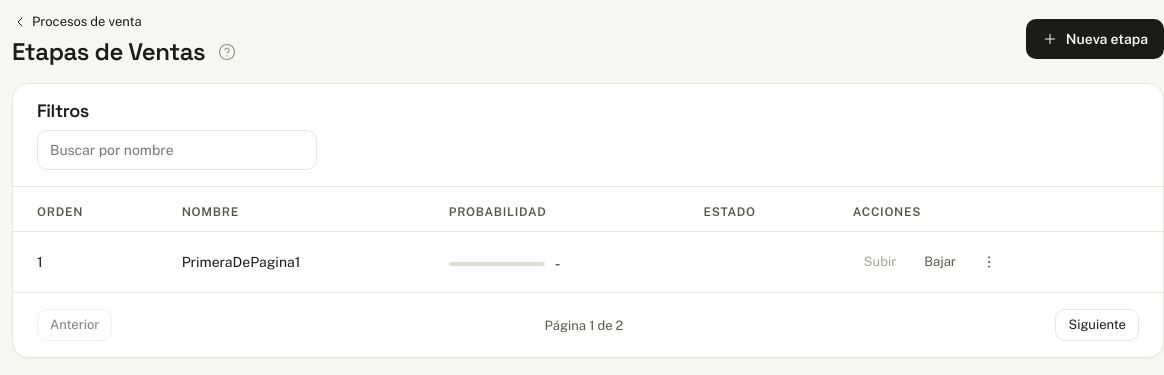
it: StageListPage › R1.10c 'Subir' se deshabilita solo en la primera fila de la primera página, no en la primera fila de una página intermedia
The image size is (1164, 375).
Expected: the text "PrimeraDePagina1" is shown, [166,232,433,292]
Expected: the button "Subir" is disabled, [853,246,907,278]
Click the button "Siguiente". click: point(1097, 325)
box: [1056,309,1139,341]
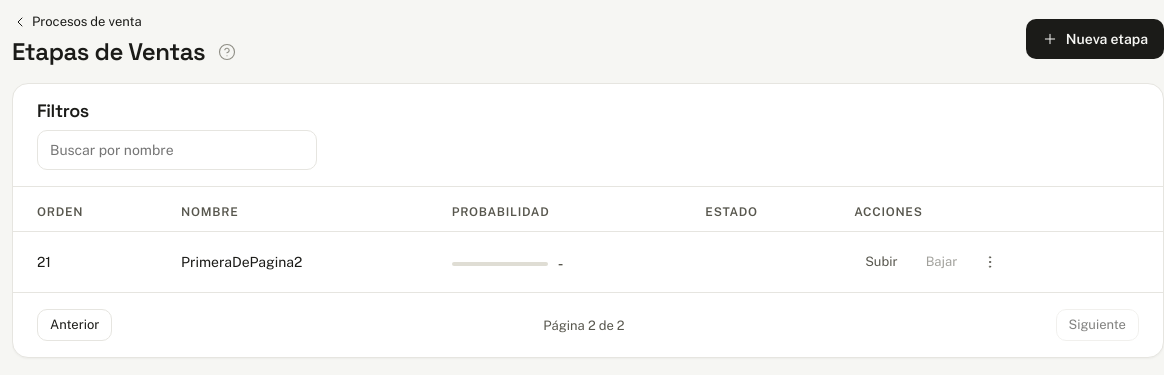
Result: the text "PrimeraDePagina2" is shown at [165,232,436,292]
Result: the button "Subir" is enabled at [854,246,909,278]
